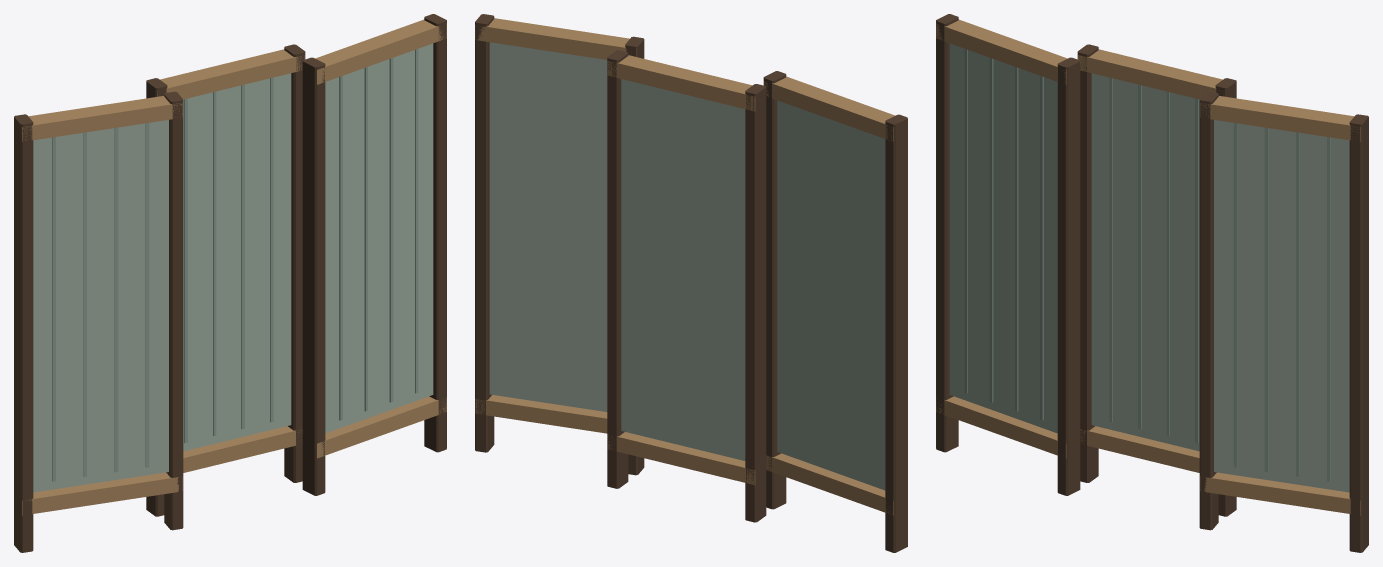
File: screen_clinic.glb
3 renders of one model, left to right at view 1: azimuth 30°, elevation 25°; view 2: azimuth 150°, elevation 25°; view 3: azimuth 330°, elevation 25°, orthographic.
Visible parts, largest first — view 1: geometry; view 2: geometry; view 3: geometry.
Boxes of the visible parts, bbox=[...] form: geometry: bbox=[14, 14, 446, 552]; geometry: bbox=[475, 14, 907, 552]; geometry: bbox=[936, 14, 1368, 552].
Size of the model in its own units: 1.79 by 1.72 by 0.2149.
